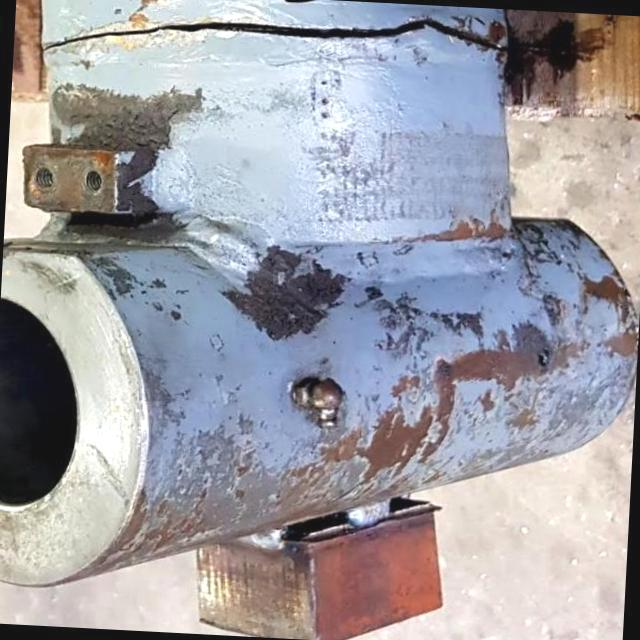defect: (40, 15, 528, 54)
